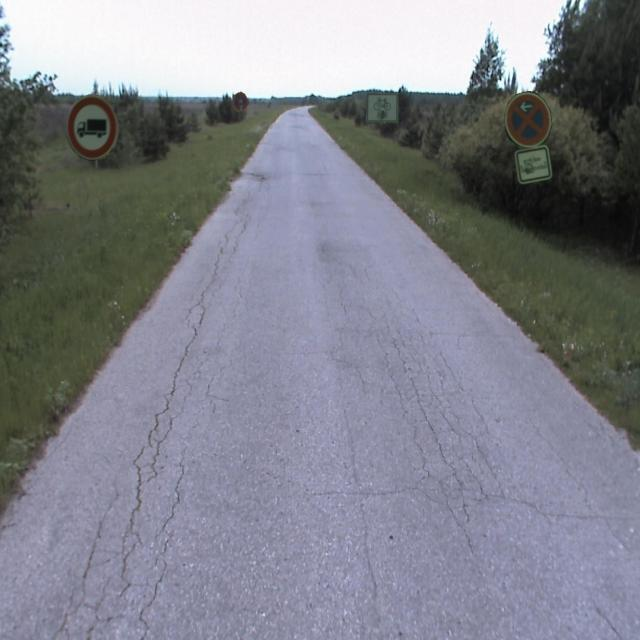road: (0, 105, 639, 639)
